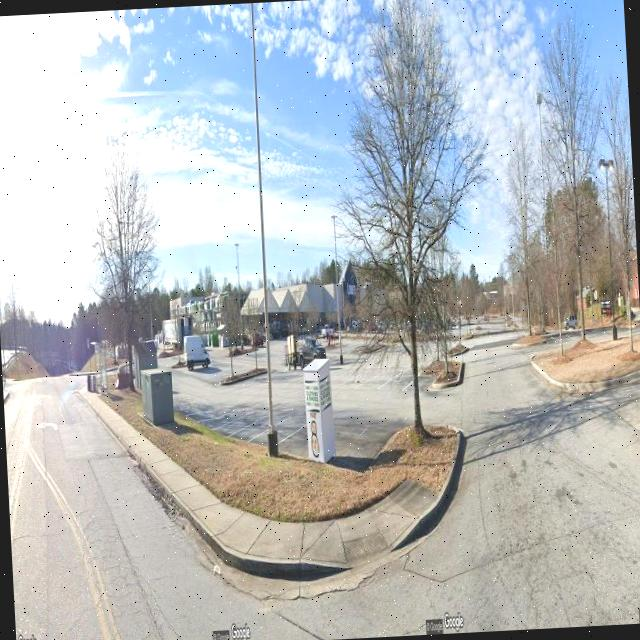seating: (100, 386, 108, 396)
shelter: (90, 340, 110, 398)
trash_can: (92, 373, 97, 392), (87, 374, 92, 392)
